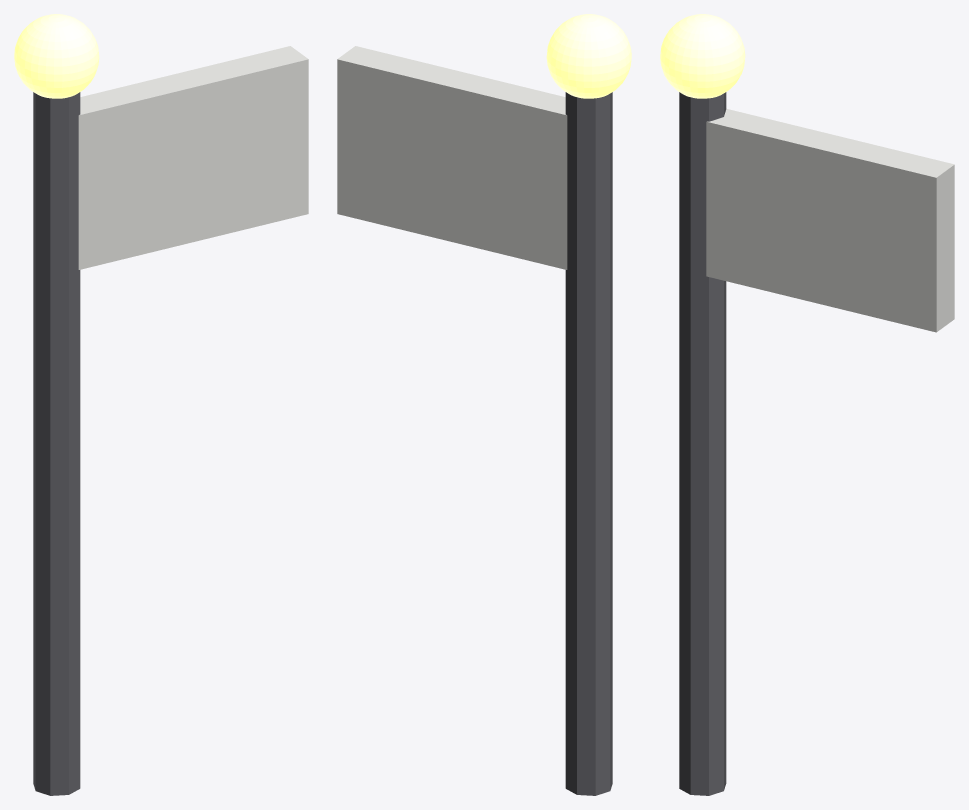
Rendered from founder_flag.glb.
3 views of the same model, side by side, from view 1: azimuth 30°, elevation 25°; view 2: azimuth 150°, elevation 25°; view 3: azimuth 330°, elevation 25° (orthographic).
Parts seen in each view (by area): view 1: Banner, pole, finial; view 2: Banner, pole, finial; view 3: Banner, pole, finial.
Boxes of the visible parts, bbox=[...] form: Banner: bbox=[78, 46, 308, 269]; pole: bbox=[33, 92, 80, 795]; finial: bbox=[14, 14, 99, 98]; Banner: bbox=[337, 46, 567, 269]; pole: bbox=[565, 92, 612, 795]; finial: bbox=[546, 14, 631, 98]; Banner: bbox=[706, 108, 954, 332]; pole: bbox=[679, 92, 726, 795]; finial: bbox=[660, 14, 745, 98].
Bounding box in the file's own units: 0.265 × 0.695 × 0.07.
